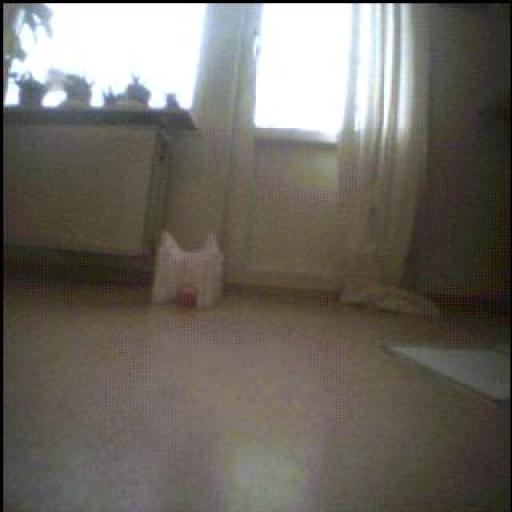Basket: (179, 286, 200, 310)
